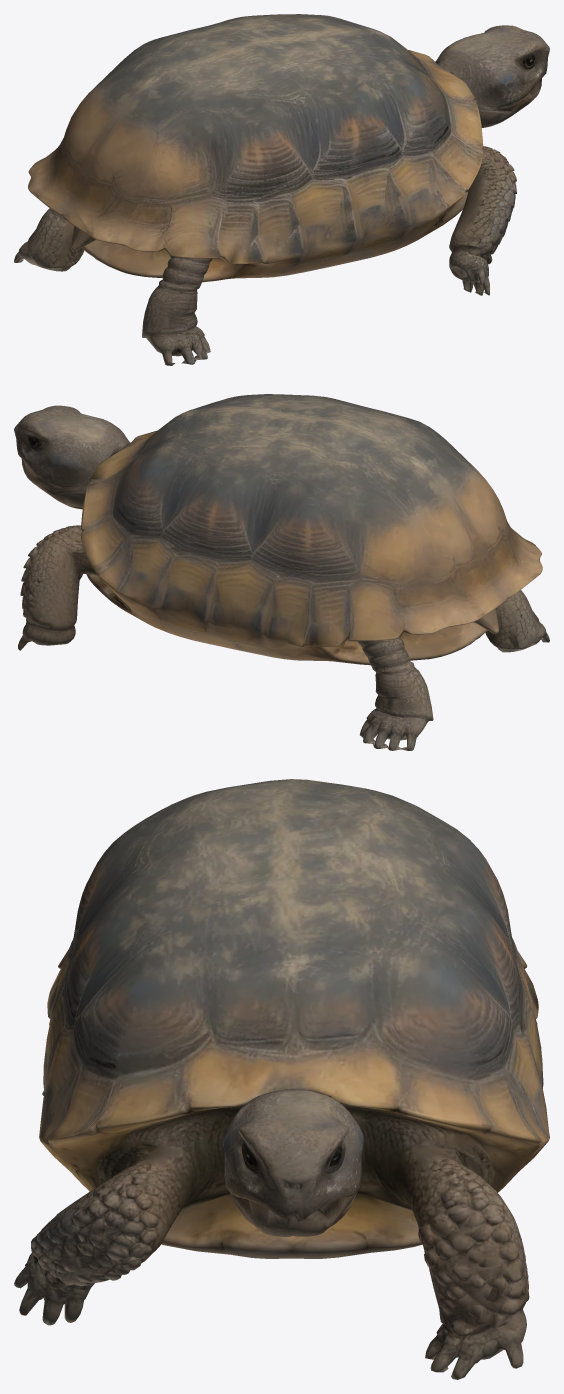
The model's file is gopher-tortoise.glb.
3 views of the same model, one above another, from view 1: azimuth 30°, elevation 25°; view 2: azimuth 150°, elevation 25°; view 3: azimuth 270°, elevation 25° (orthographic). The views are drawn at different scales.
Parts seen in each view (by area): view 1: material; view 2: material; view 3: material.
Boxes of the visible parts, x1=… form: material: x1=14, y1=14, x2=549, y2=365; material: x1=14, y1=394, x2=549, y2=750; material: x1=14, y1=779, x2=549, y2=1379.
Size of the model in its own units: 1.06 by 0.4927 by 0.6347.
Materials: 1 (1 with a texture image).
